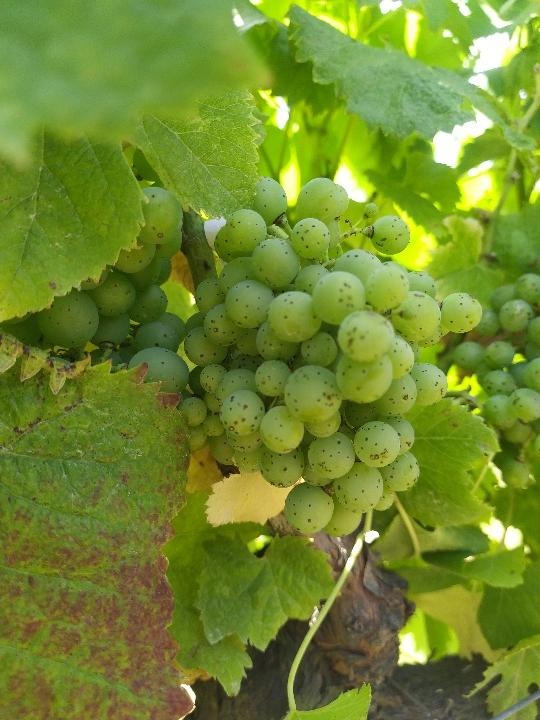grape: (176, 176, 483, 539)
